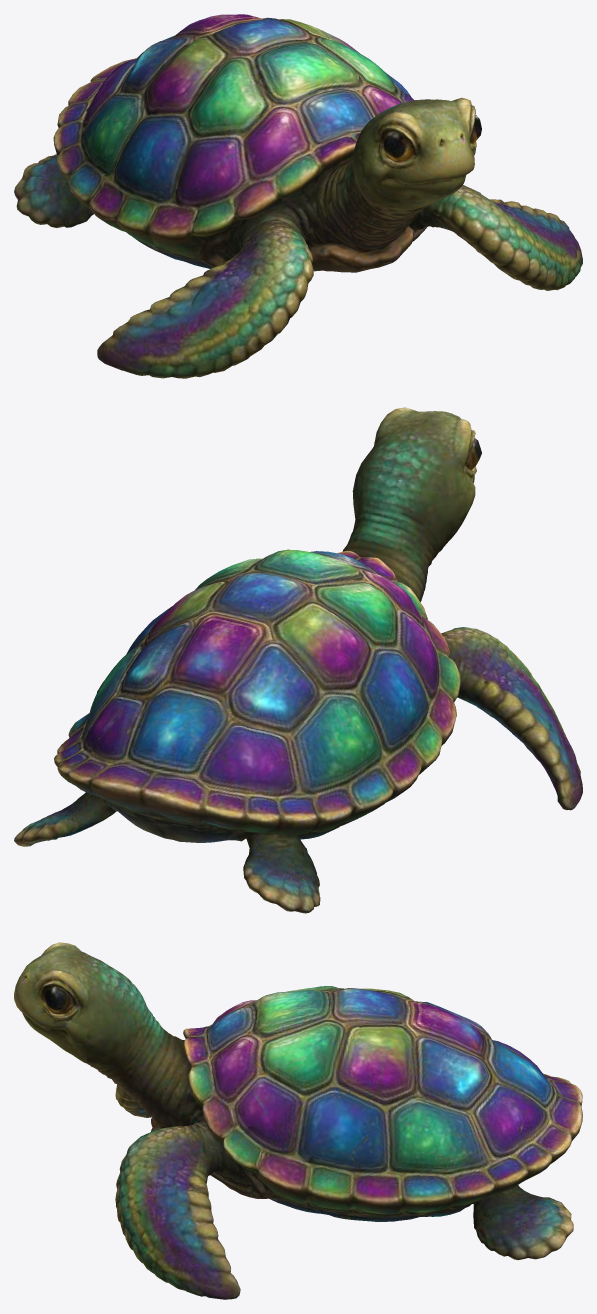
The picture shows the model from 3 angles, top to bottom: view 1: azimuth 30°, elevation 25°; view 2: azimuth 150°, elevation 25°; view 3: azimuth 270°, elevation 25°; orthographic projection. The views are drawn at different scales.
Bounding box in the file's own units: 1.64 × 0.8983 × 1.9.
1 material, 1 textured.
